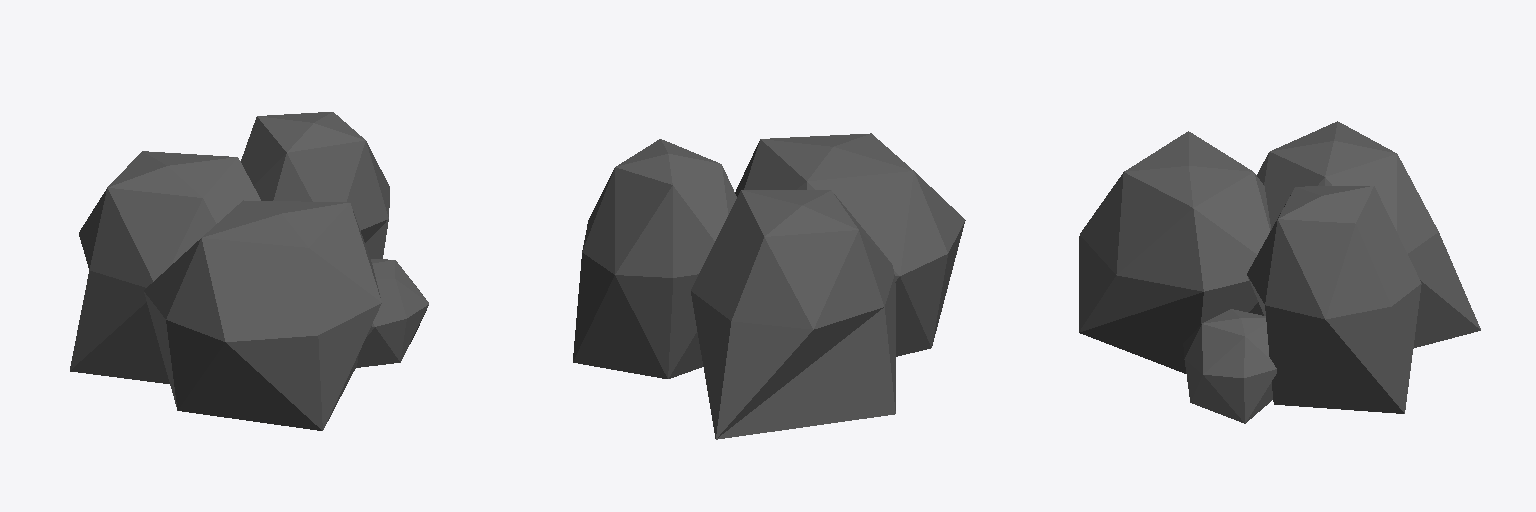
The model's file is ore_rock1.obj.
3 views of the same model, side by side, from view 1: azimuth 30°, elevation 25°; view 2: azimuth 150°, elevation 25°; view 3: azimuth 270°, elevation 25° (orthographic).
Visible parts, largest first — view 1: Object.1, Object.2, Object.3, Object.4; view 2: Object.2, Object.3, Object.1; view 3: Object.1, Object.3, Object.2, Object.4.
Part boxes in pixels (x1,y1,x2,y2): Object.1: (144,200,381,430); Object.2: (70,151,260,383); Object.3: (241,112,389,258); Object.4: (356,259,428,367); Object.2: (691,190,895,439); Object.3: (573,139,736,378); Object.1: (735,133,965,356); Object.1: (1079,131,1270,373); Object.3: (1247,186,1421,413); Object.2: (1257,121,1480,348); Object.4: (1183,309,1276,423).
Size of the model in its own units: 0.9009 by 0.5396 by 1.